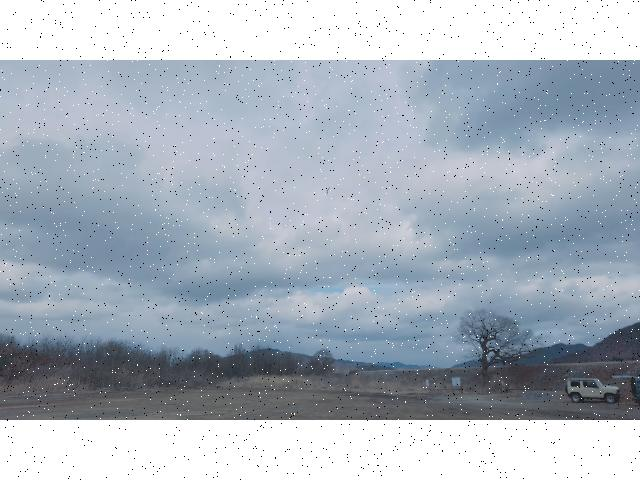Anti-Drone: (324, 184, 332, 197)
